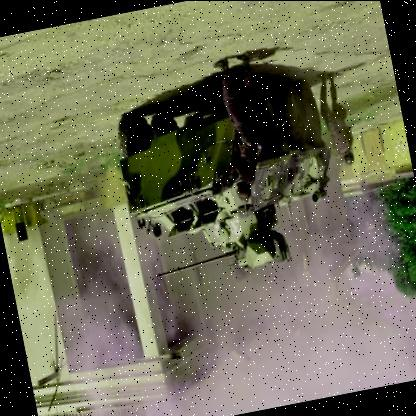rifle: (199, 163, 235, 200)
